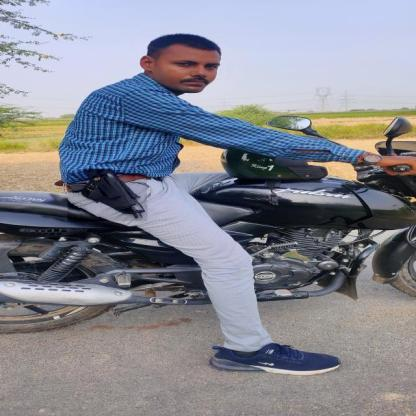handgun: (67, 170, 147, 222)
